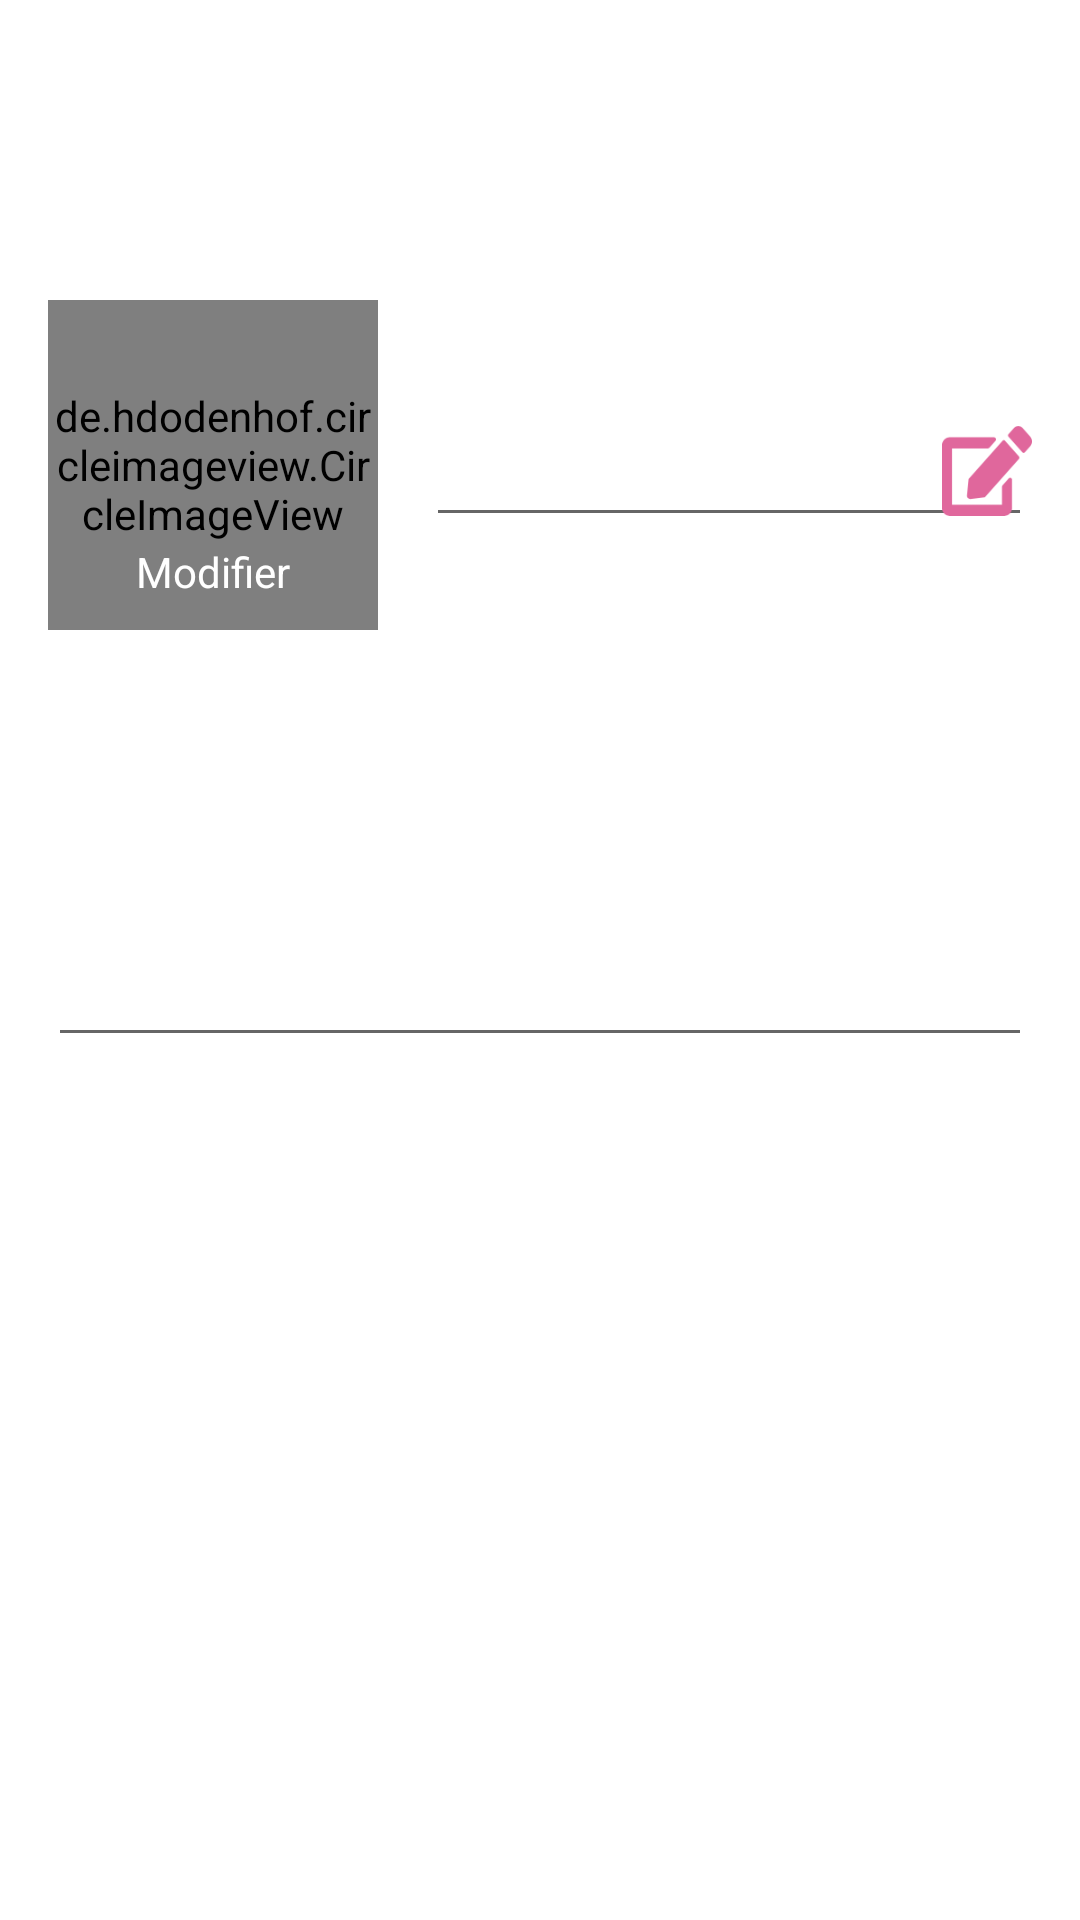

Icon bounding boxes for this 1080x1920 phone screenshot, format bbox=(x1, y1, x2, y2):
write: bbox=(942, 426, 1032, 516)
